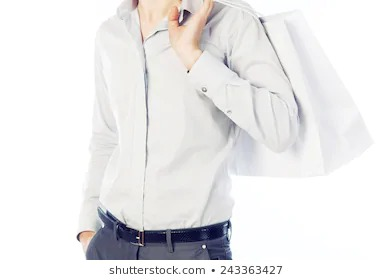F_belt: (108, 215, 231, 237)
F_shirt: (81, 1, 299, 234)
